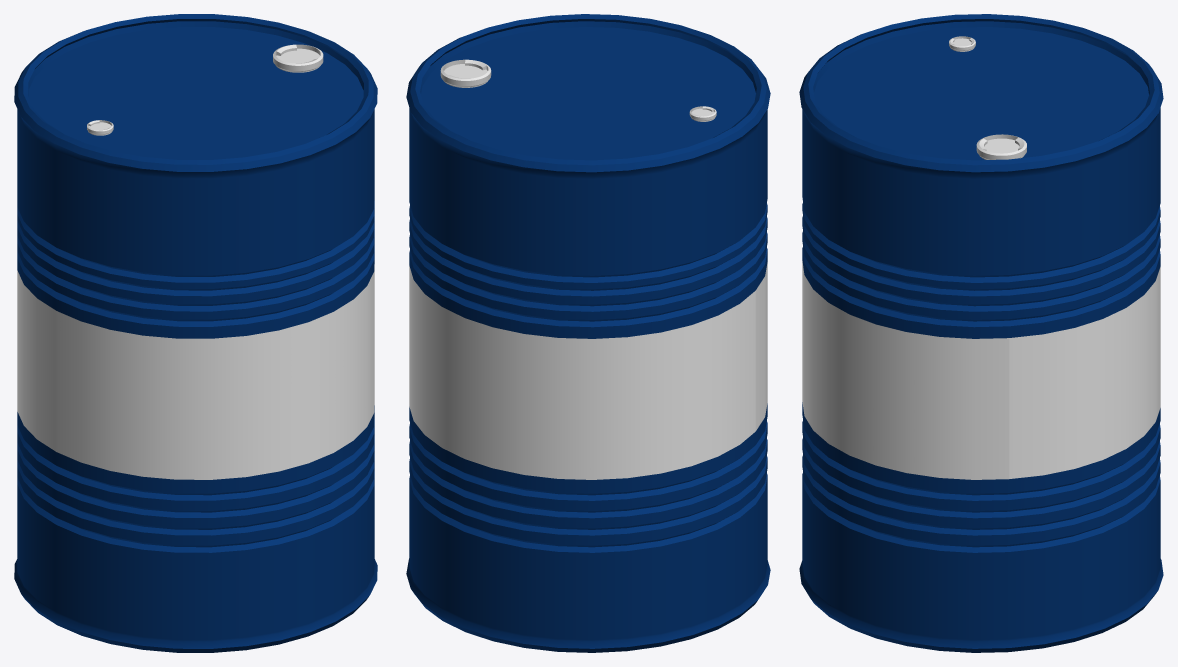
Rendered from Barrel.glb.
3 views of the same model, side by side, from view 1: azimuth 30°, elevation 25°; view 2: azimuth 150°, elevation 25°; view 3: azimuth 270°, elevation 25° (orthographic).
Visible parts, largest first — view 1: Barrel_low.006, Big_Stopper_low.006; view 2: Barrel_low.006, Big_Stopper_low.006; view 3: Barrel_low.006, Big_Stopper_low.006.
Boxes of the visible parts, left/top/right/bottom form: Barrel_low.006: left=14, top=14, right=377, bottom=652; Big_Stopper_low.006: left=273, top=44, right=323, bottom=72; Barrel_low.006: left=406, top=14, right=770, bottom=652; Big_Stopper_low.006: left=440, top=59, right=491, bottom=87; Barrel_low.006: left=799, top=14, right=1163, bottom=652; Big_Stopper_low.006: left=976, top=134, right=1026, bottom=159.
Size of the model in its own units: 0.5942 by 0.8832 by 0.5942.
